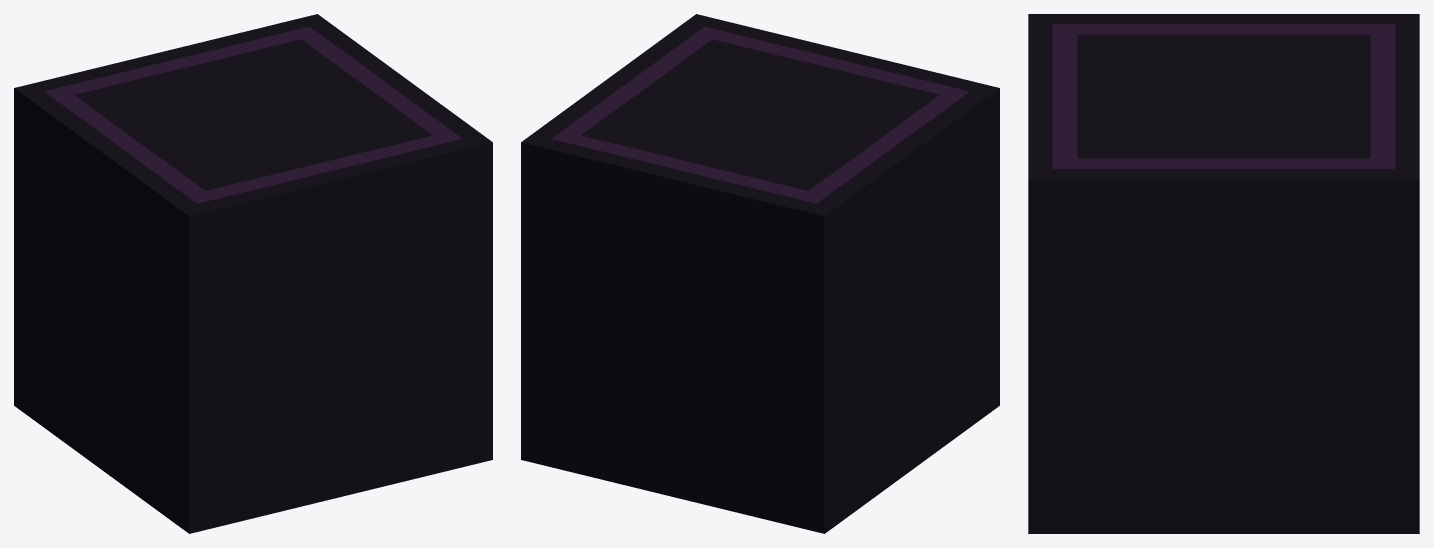
File: tiles-8.obj
3 renders of one model, left to right at view 1: azimuth 30°, elevation 25°; view 2: azimuth 150°, elevation 25°; view 3: azimuth 270°, elevation 25°, orthographic. The views are drawn at different scales.
Bounding box in the file's own units: 1.6 × 1.6 × 1.6.
1 material, 1 textured.
